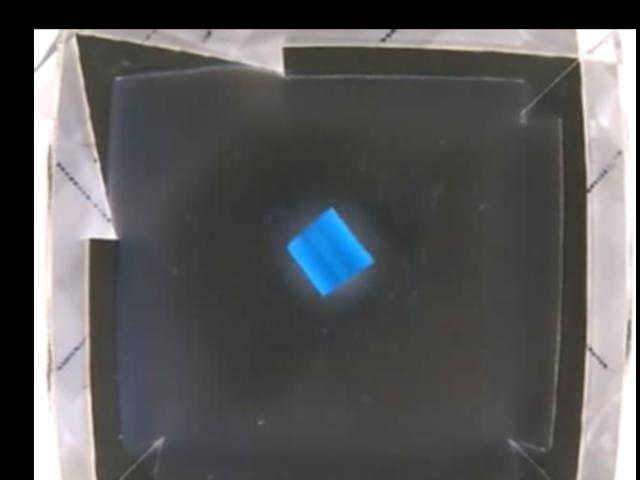Carrot: (287, 207, 370, 292)
